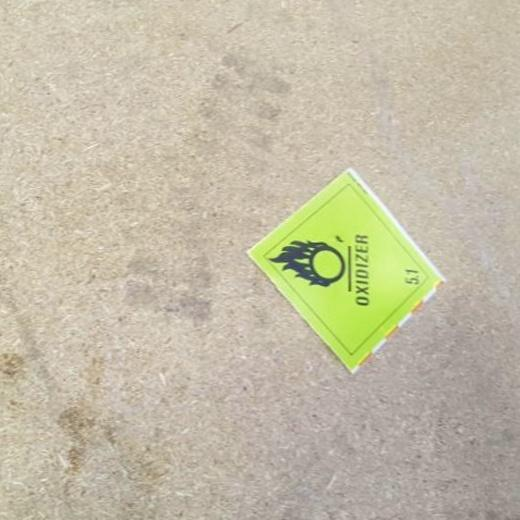oxidizer: (242, 165, 450, 379)
